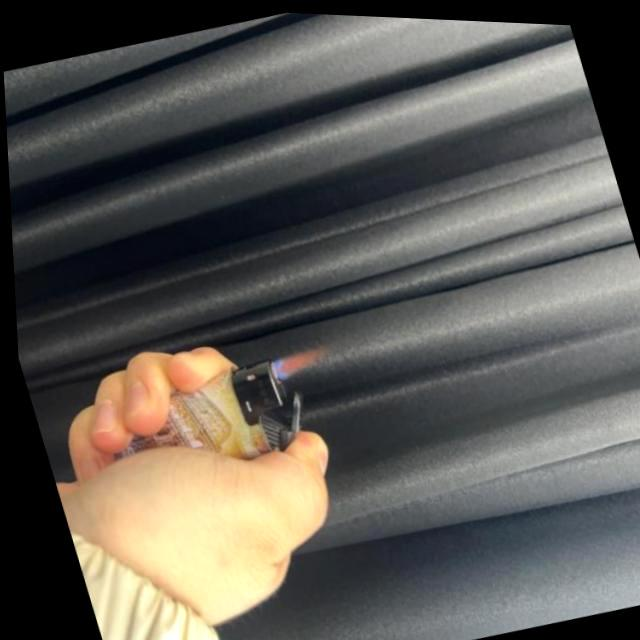fire: (265, 338, 335, 378)
